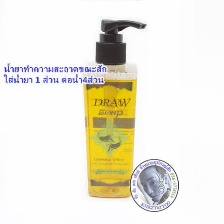cleaning_solution: (80, 14, 149, 202)
